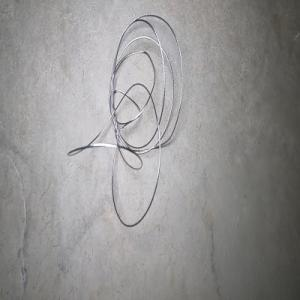Wire: (67, 13, 182, 227)
